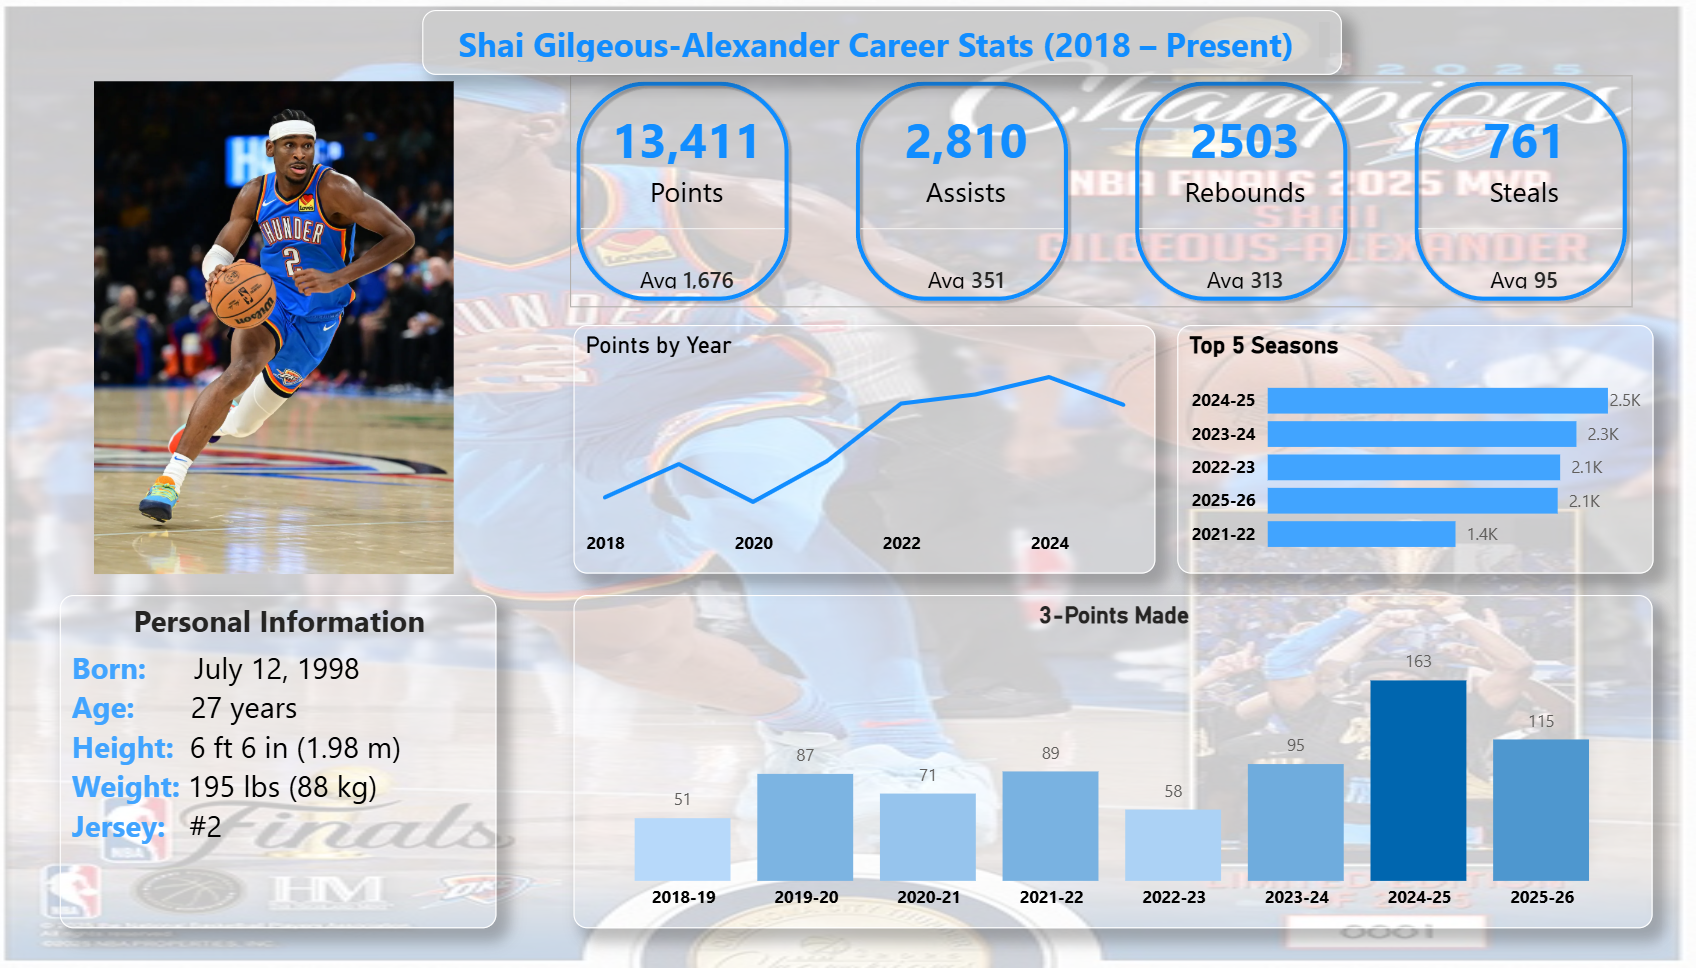

What the dashboard file says about the page in this screenshot:
{"tool":"powerbi","page":{"name":"Page 1","canvas":[1280,720],"ordinal":0},"visuals":[{"type":"cardVisual","fields":{"Data":["Sum(Data.PTS)","Sum(Data.AST)","Sum(Data.REB)","Sum(Data.STL)"]},"box":[437.8,50.1,799.7,193.2],"z":0},{"type":"lineChart","title":"Points by Year","fields":{"Y":["Sum(Data.PTS)"],"Category":["Data.Year"]},"box":[452.4,243.3,423.1,181],"z":1},{"type":"barChart","title":"Top 5 Seasons","fields":{"Y":["Sum(Data.PTS)"],"Category":["Data.Season"]},"box":[891.4,243.3,346.1,181],"z":2},{"type":"columnChart","title":"3-Points Made ","fields":{"Y":["Sum(Data.3PM)"],"Category":["Data.Season"]},"box":[452.4,440.2,785.1,242.1],"z":3},{"type":"textbox","title":"Personal Information","box":[79.5,440.2,317.9,242.1],"z":4},{"type":"textbox","box":[342.4,14.7,668.9,47],"z":5},{"type":"image","box":[0,66,469.6,358.3],"z":6}]}

Visuals, with their boxes in screenshot pixels (x1, y1, x2, y2), scaled from the page's 1280x720 canvas onto the 1696x968 screenshot:
cardVisual - Sum(Data.PTS) x Sum(Data.AST): 580:67:1640:327
"Points by Year" lineChart: 599:327:1160:570
"Top 5 Seasons" barChart: 1181:327:1640:570
"3-Points Made " columnChart: 599:592:1640:917
"Personal Information" textbox: 105:592:527:917
textbox: 454:20:1340:83
image: 0:89:622:570
